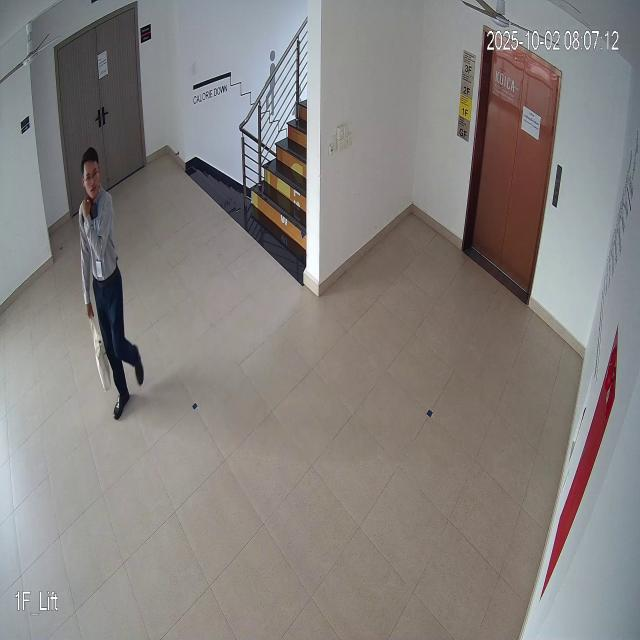face: (78, 144, 106, 207)
